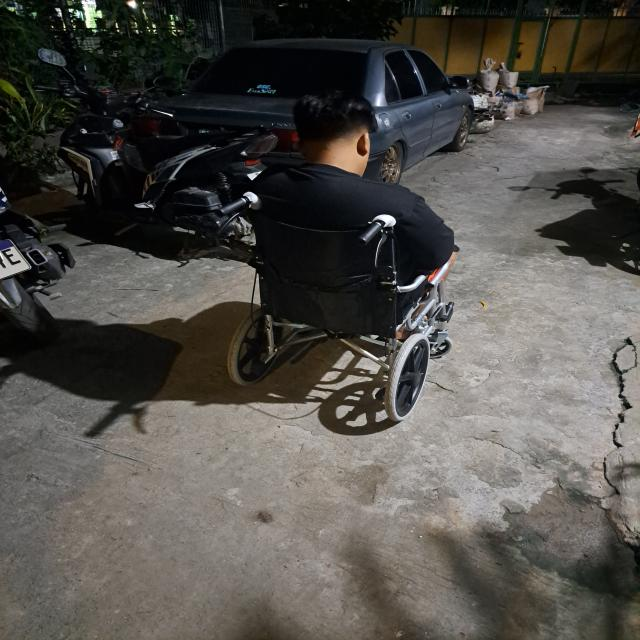wheelchairs: (197, 196, 478, 437)
